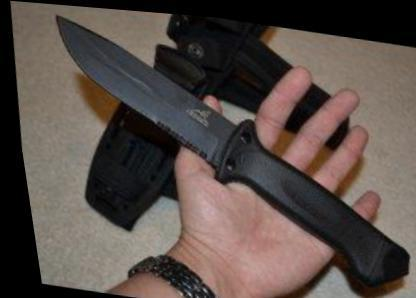knife: (35, 4, 268, 188)
